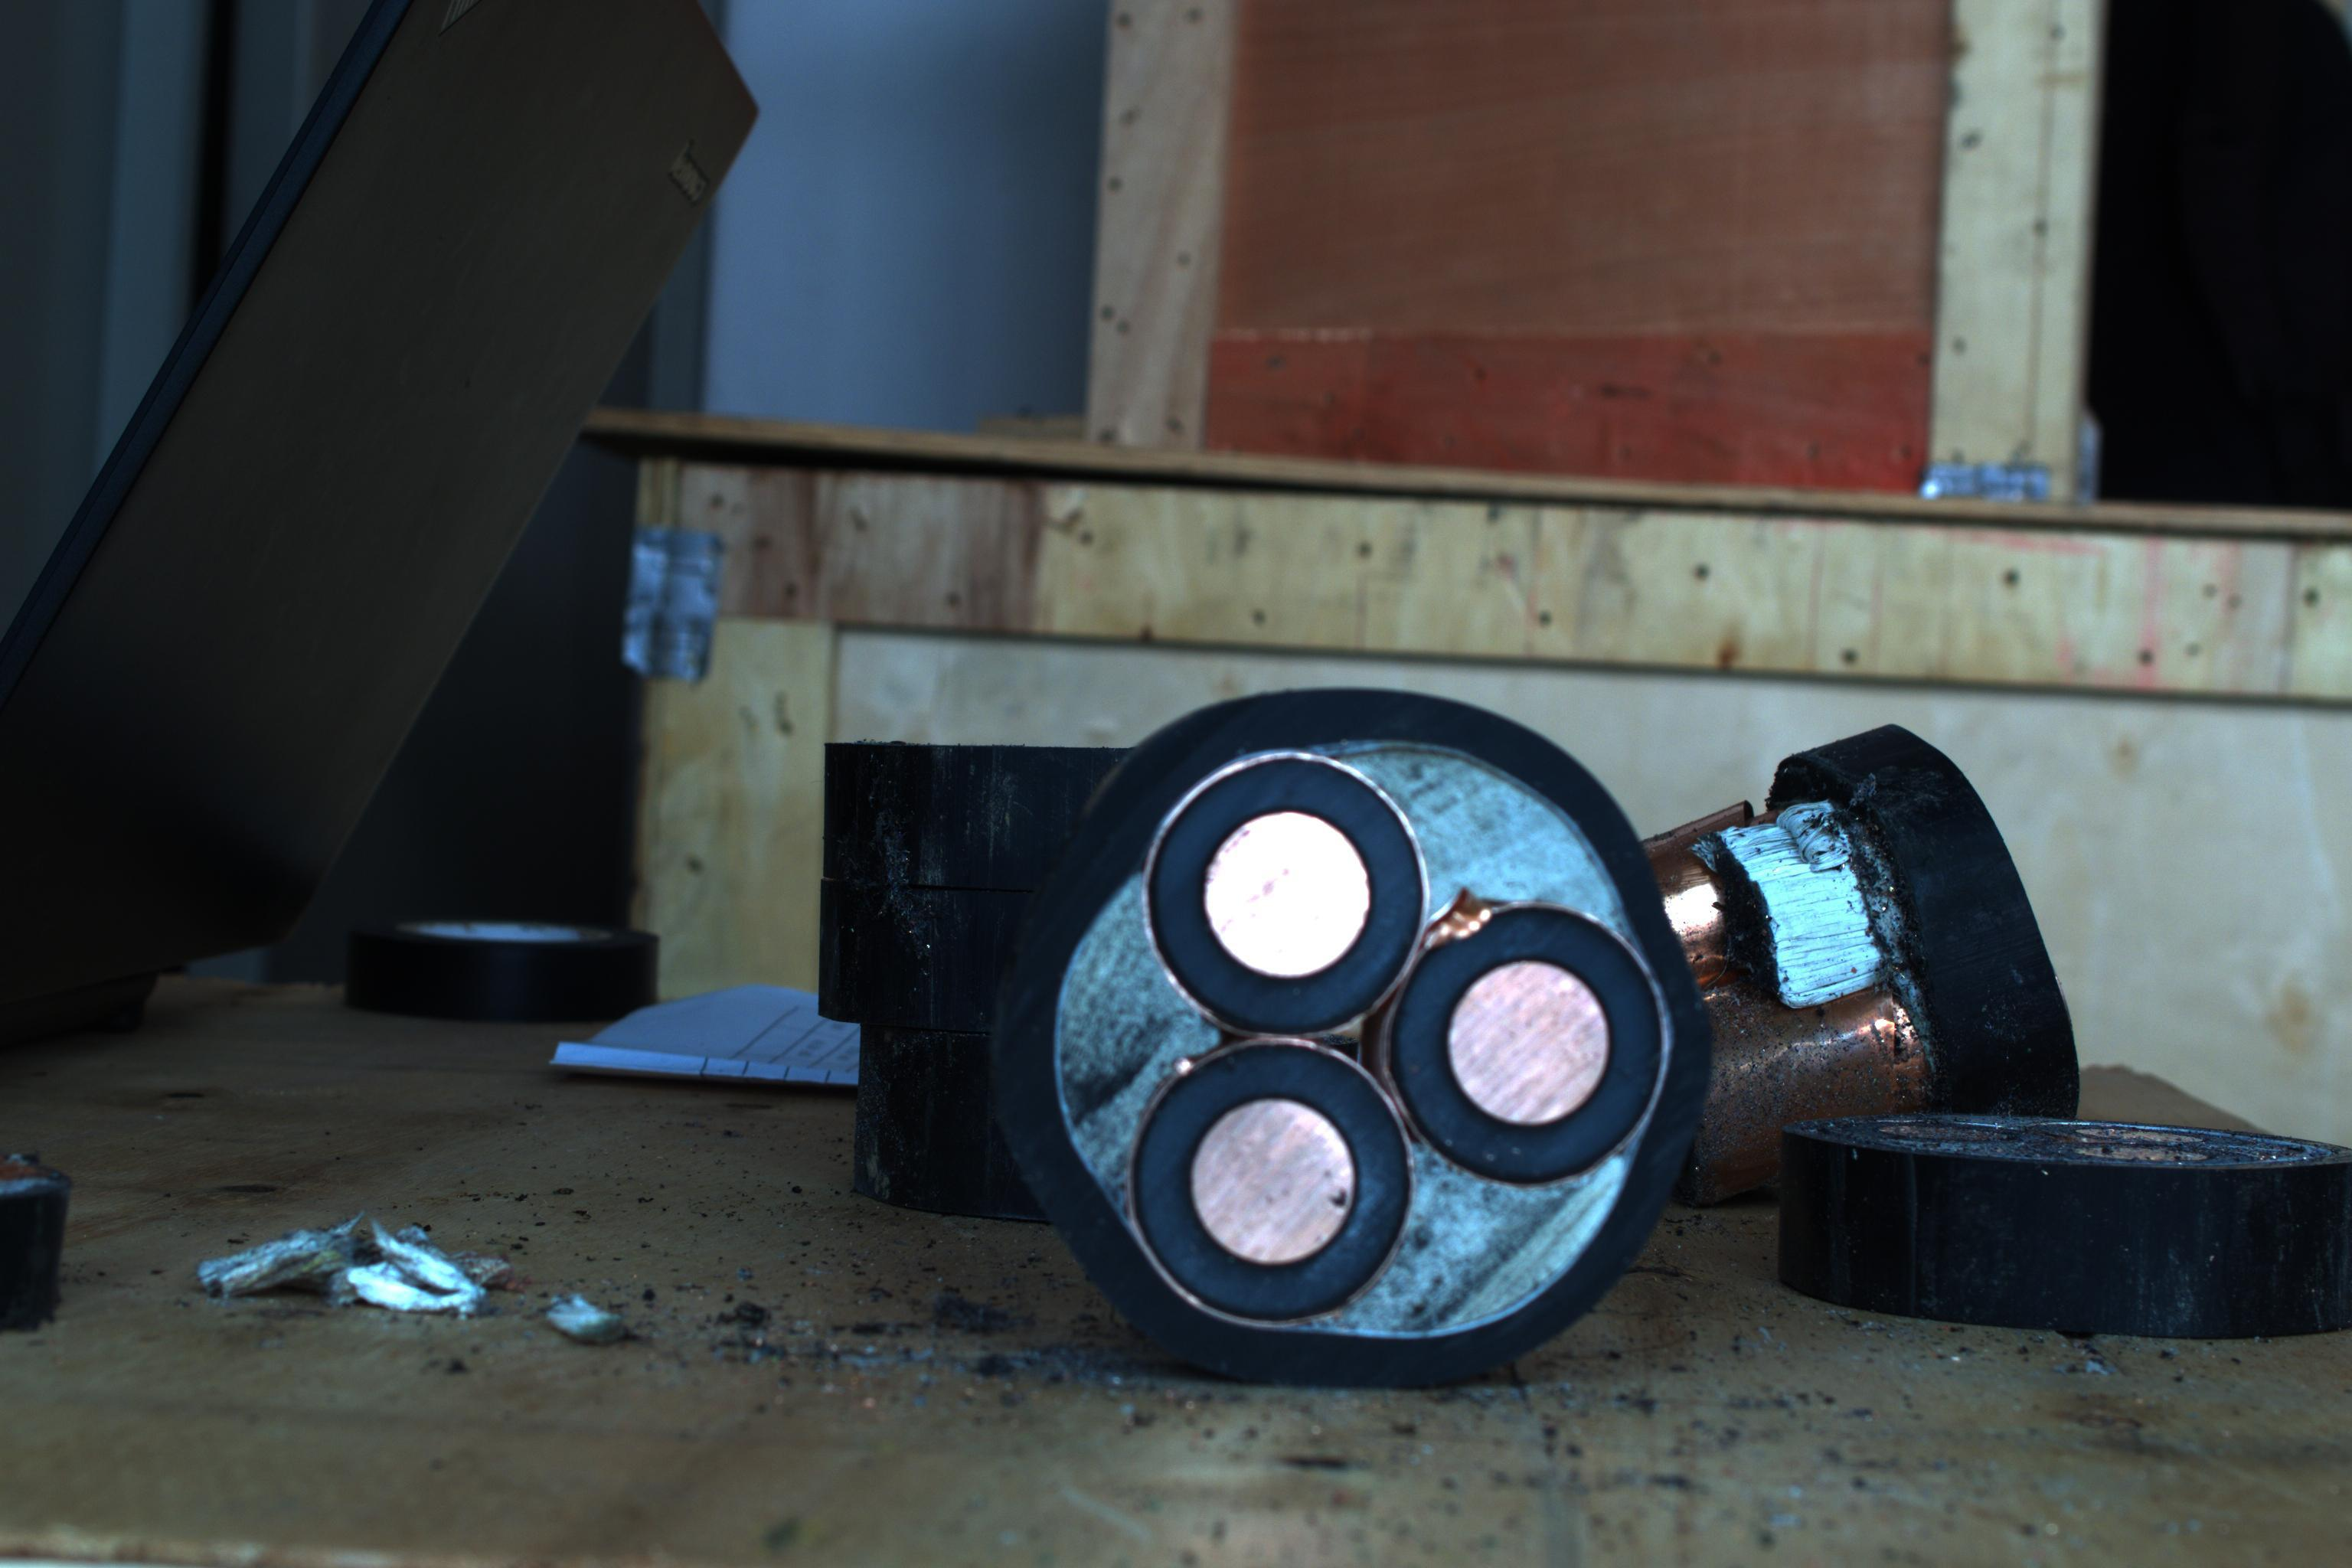ZA_YJV_8.7_10kV_3x240: (1036, 724, 1725, 1365)
